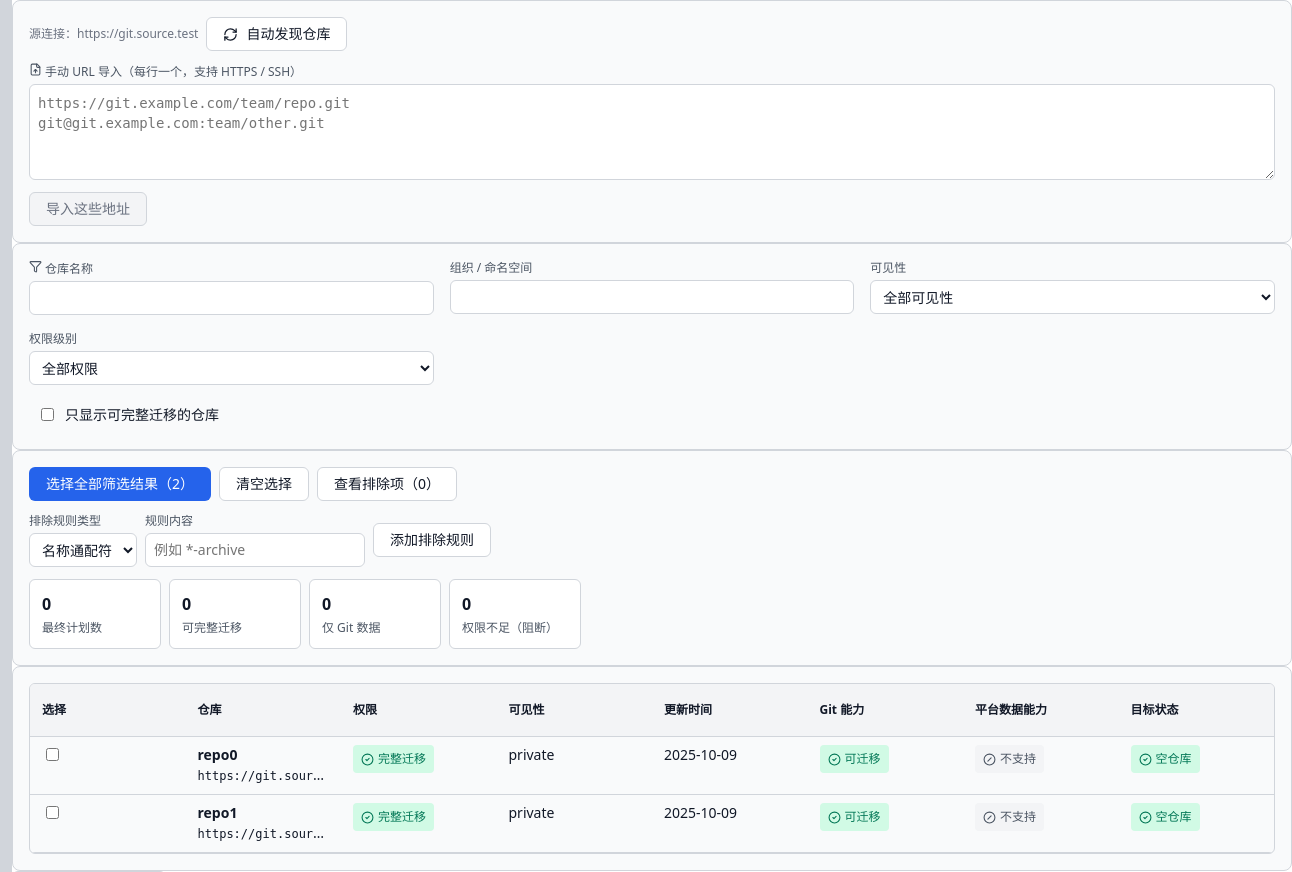
仓库选择页 › 空结果给出下一步动作而不是空白表格
Type "找不到" into the search field labelled "仓库名称" at point(231, 298), box top-left (29, 281), bottom-right (434, 315)
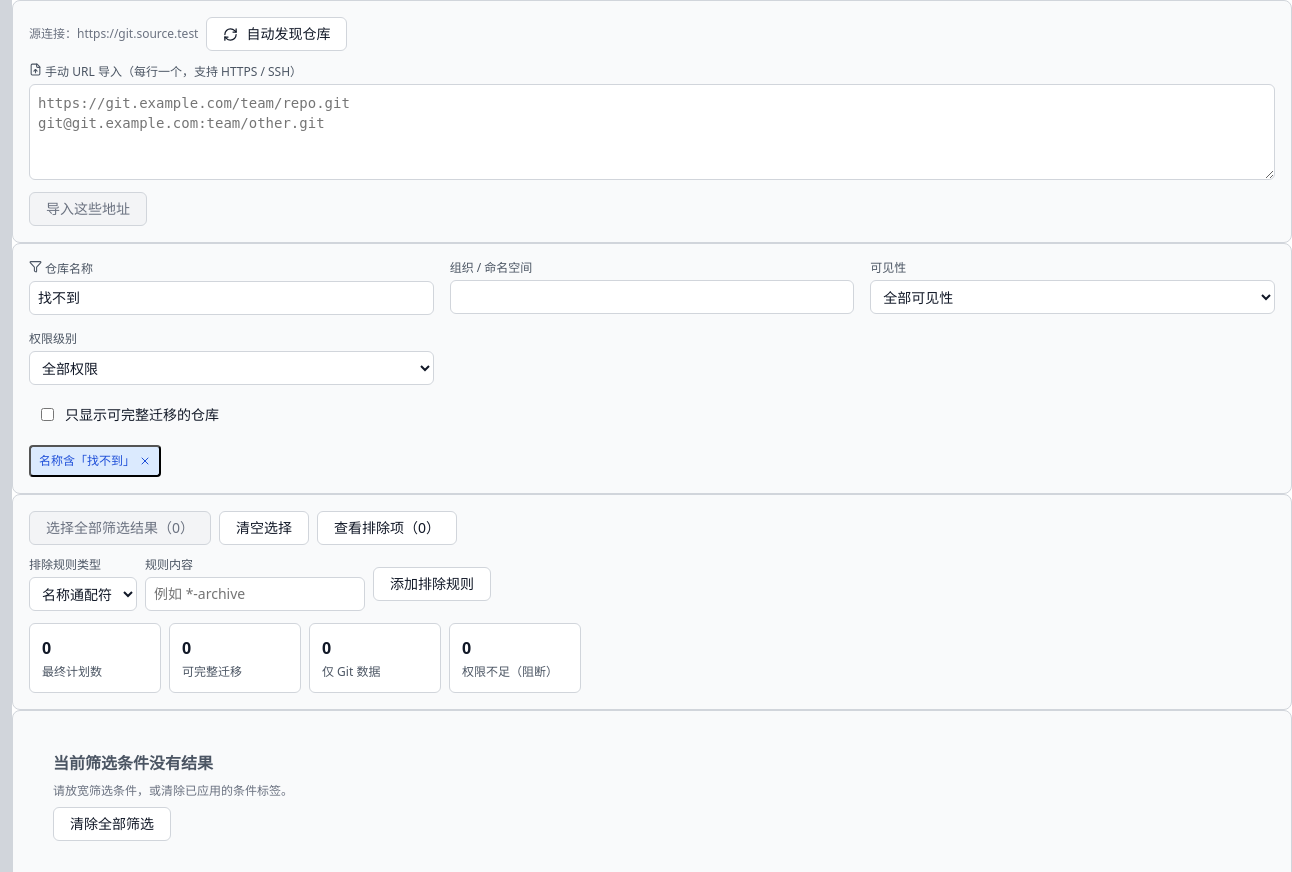
expect the heading "当前筛选条件没有结果" is shown: met, box top-left (53, 751), bottom-right (213, 775)
Click the button "清除全部筛选" at point(112, 824), box top-left (53, 807), bottom-right (171, 841)
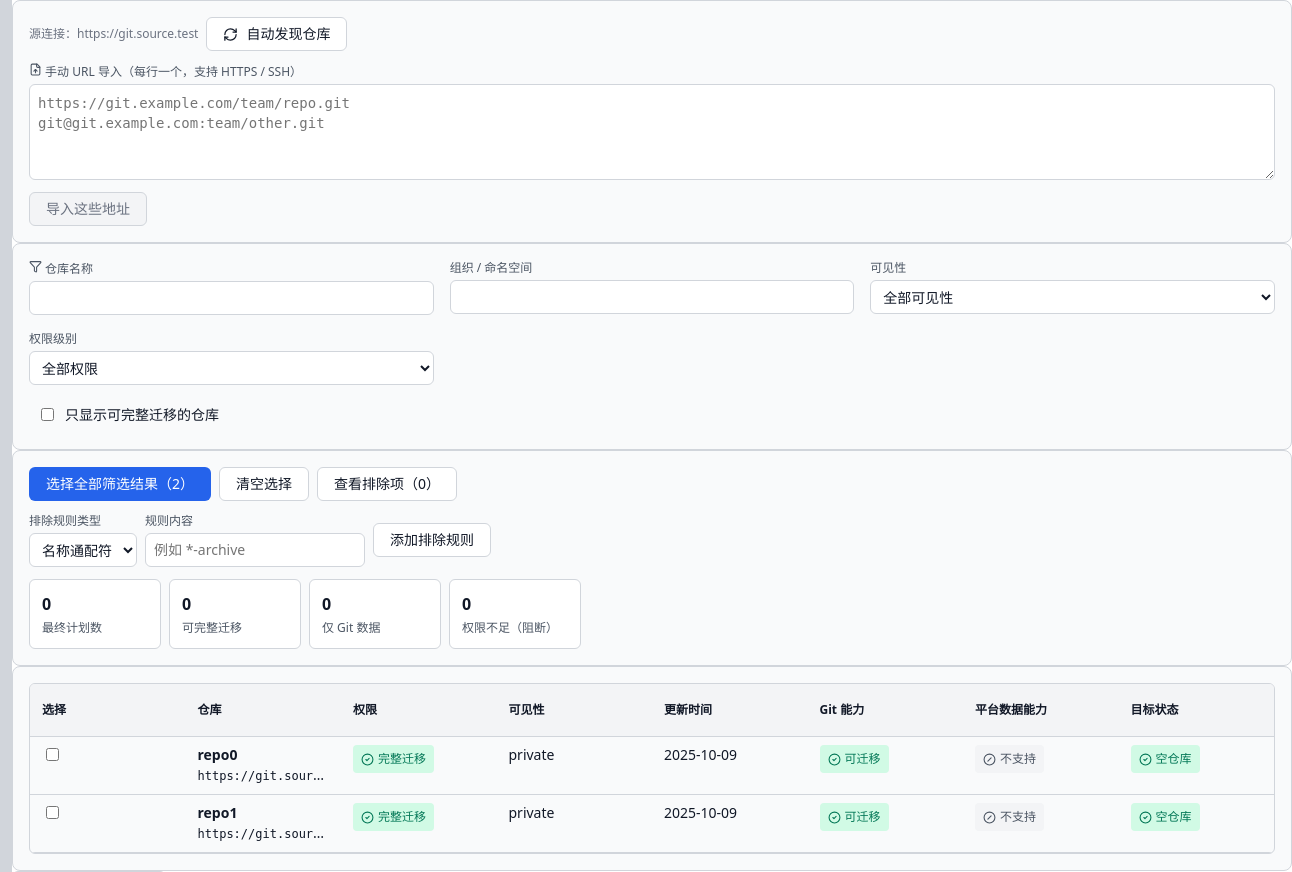
expect the table is shown: met, box top-left (30, 684), bottom-right (1274, 853)
